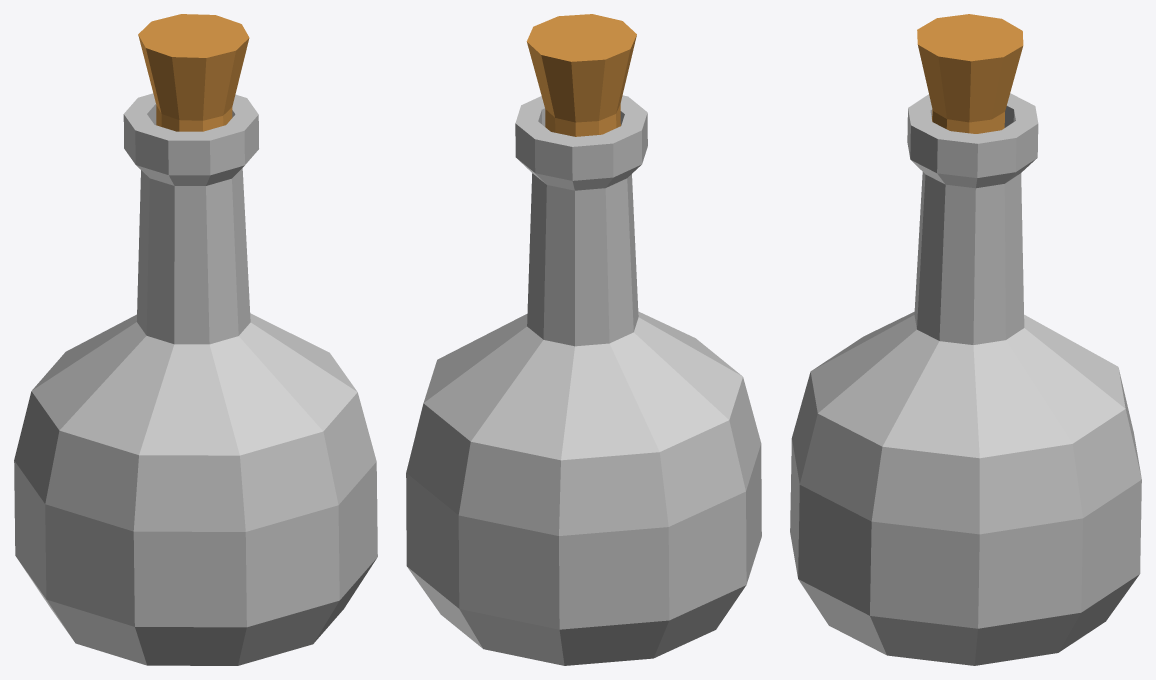
File: BlueB.fbx
The picture shows the model from 3 angles, left to right: view 1: azimuth 30°, elevation 25°; view 2: azimuth 150°, elevation 25°; view 3: azimuth 270°, elevation 25°; orthographic projection.
Visible parts, largest first — view 1: group_2068853349; view 2: group_2068853349; view 3: group_2068853349.
Part boxes in pixels (x1,y1,x2,y2): group_2068853349: (14, 14, 377, 665); group_2068853349: (406, 14, 761, 665); group_2068853349: (790, 14, 1141, 665).
Size of the model in its own units: 18.97 by 34.08 by 18.53.
